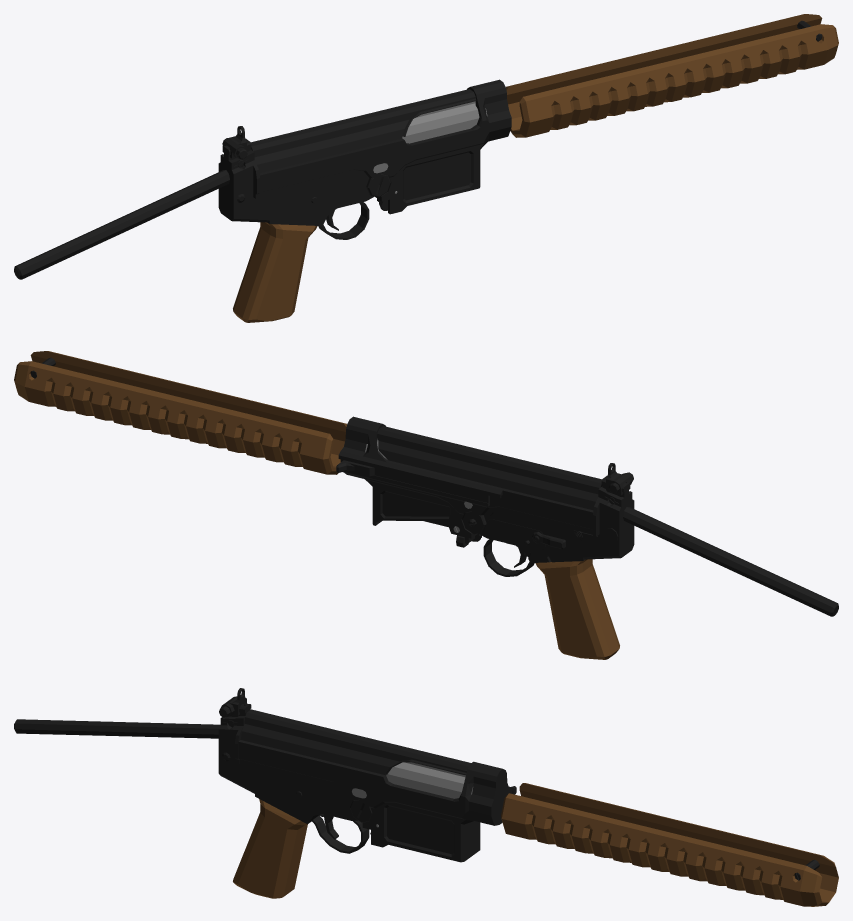
File: fal_280.glb
3 renders of one model, top to bottom at view 1: azimuth 30°, elevation 25°; view 2: azimuth 150°, elevation 25°; view 3: azimuth 330°, elevation 25°, orthographic.
Parts seen in each view (by area): view 1: 280fal handguard_9, 280fal upper receiver_16, 280fal lower receiver_10, 280fal top cover_14, 280fal grip_8, 280fal bolt_5; view 2: 280fal handguard_9, 280fal lower receiver_10, 280fal upper receiver_16, 280fal top cover_14, 280fal grip_8, 280fal charging handle_6; view 3: 280fal handguard_9, 280fal upper receiver_16, 280fal lower receiver_10, 280fal top cover_14, 280fal grip_8, 280fal bolt_5.
Boxes of the visible parts, left/top/right/bottom form: 280fal handguard_9: left=506, top=14, right=838, bottom=137; 280fal upper receiver_16: left=258, top=79, right=511, bottom=214; 280fal lower receiver_10: left=14, top=126, right=374, bottom=279; 280fal top cover_14: left=250, top=89, right=476, bottom=172; 280fal grip_8: left=233, top=222, right=317, bottom=322; 280fal bolt_5: left=402, top=101, right=487, bottom=143; 280fal handguard_9: left=14, top=351, right=346, bottom=474; 280fal lower receiver_10: left=478, top=463, right=838, bottom=616; 280fal upper receiver_16: left=338, top=416, right=593, bottom=547; 280fal top cover_14: left=377, top=426, right=602, bottom=509; 280fal grip_8: left=535, top=559, right=619, bottom=659; 280fal charging handle_6: left=336, top=460, right=489, bottom=503; 280fal handguard_9: left=501, top=783, right=838, bottom=906; 280fal upper receiver_16: left=238, top=740, right=514, bottom=862; 280fal lower receiver_10: left=14, top=688, right=369, bottom=853; 280fal top cover_14: left=240, top=709, right=470, bottom=775; 280fal grip_8: left=233, top=799, right=307, bottom=898; 280fal bolt_5: left=386, top=762, right=473, bottom=798.
Size of the model in its own units: 7.61 by 1.74 by 0.5568.
